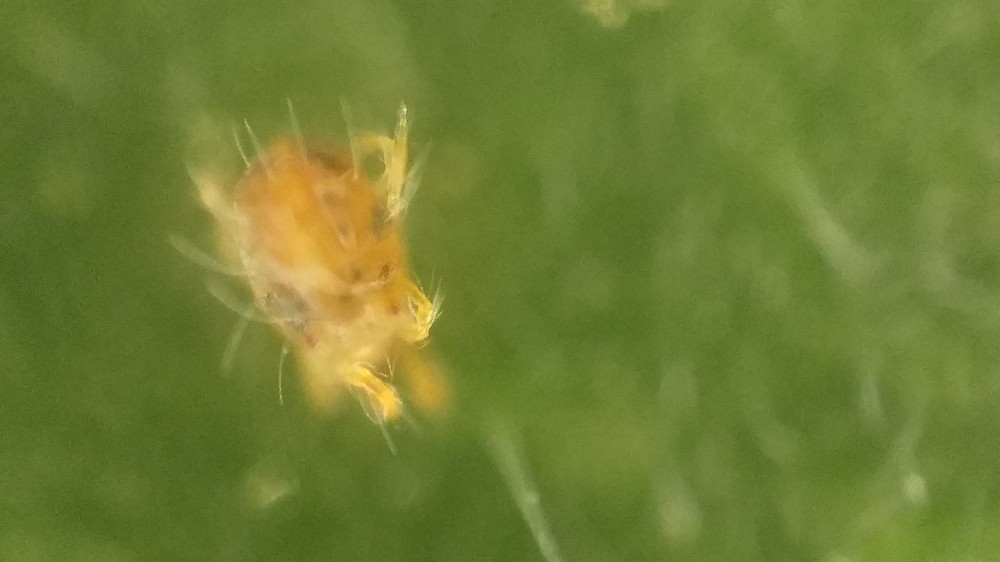Aracnido Rojo: (171, 97, 529, 456)
